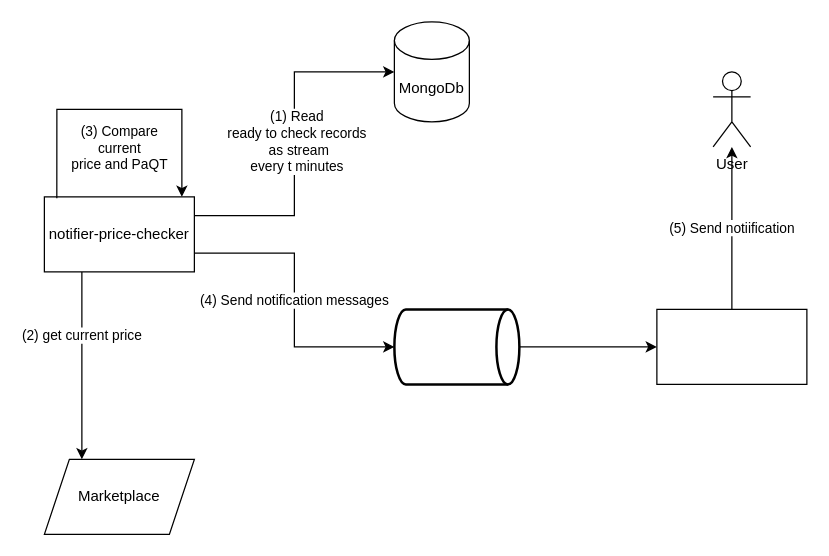
The diagram is 829 pixels wide and 556 high, and some of its shapes have lost their labels. Each missing label, with the box of its shape:
notifier-notification-sender: (656, 308, 807, 384)
RabbitMQ: (392, 308, 520, 385)
